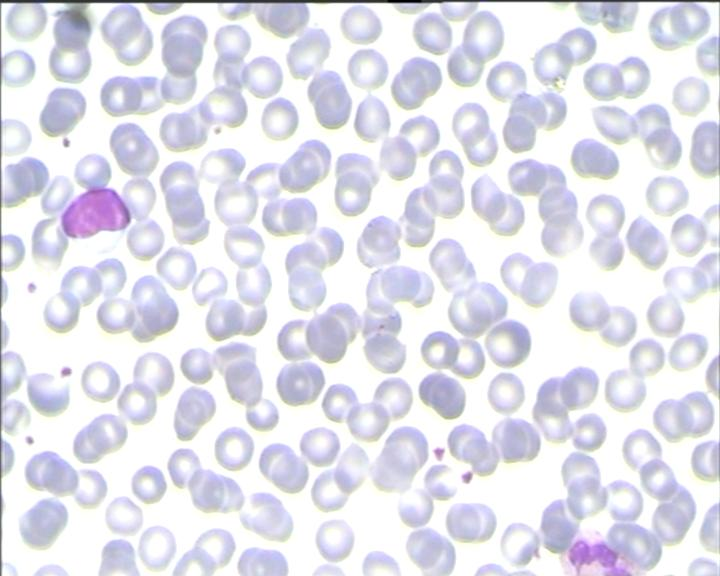lymp: (56, 187, 132, 257)
